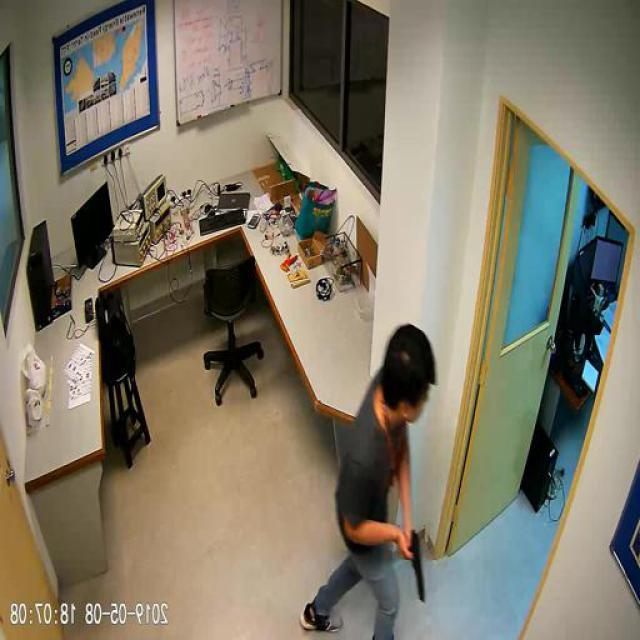Gun: (404, 524, 426, 600)
